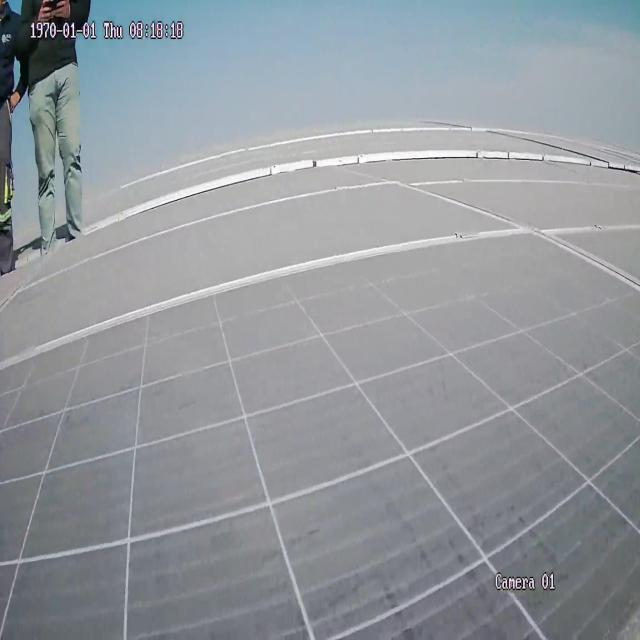interior panel: (2, 223, 640, 357)
